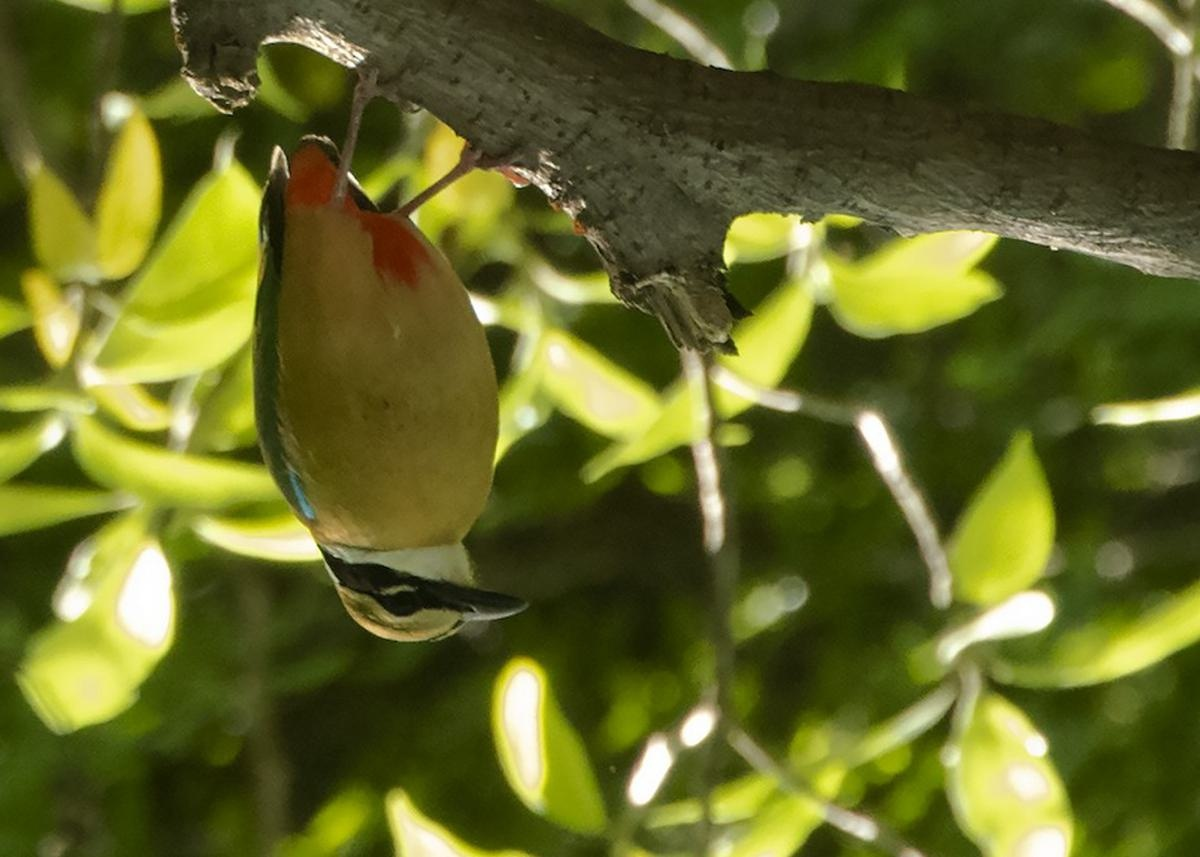pitta: (177, 135, 589, 668)
